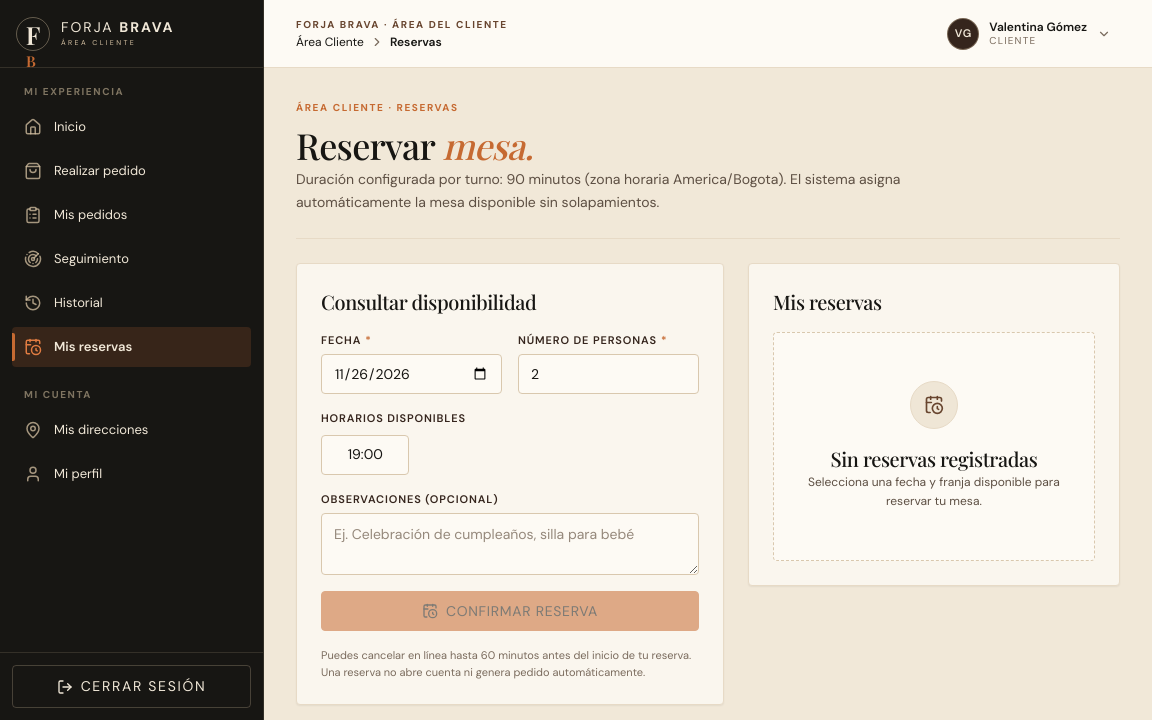
Test: Integración — Etapas 6 y 7 (Direcciones, Checkout, Reservas, Mesas) › permite consultar disponibilidad y crear reserva en /cliente/reservas
Step 1. Click the button "19:00" → (365, 454), box x1=321 y1=434 x2=410 y2=474
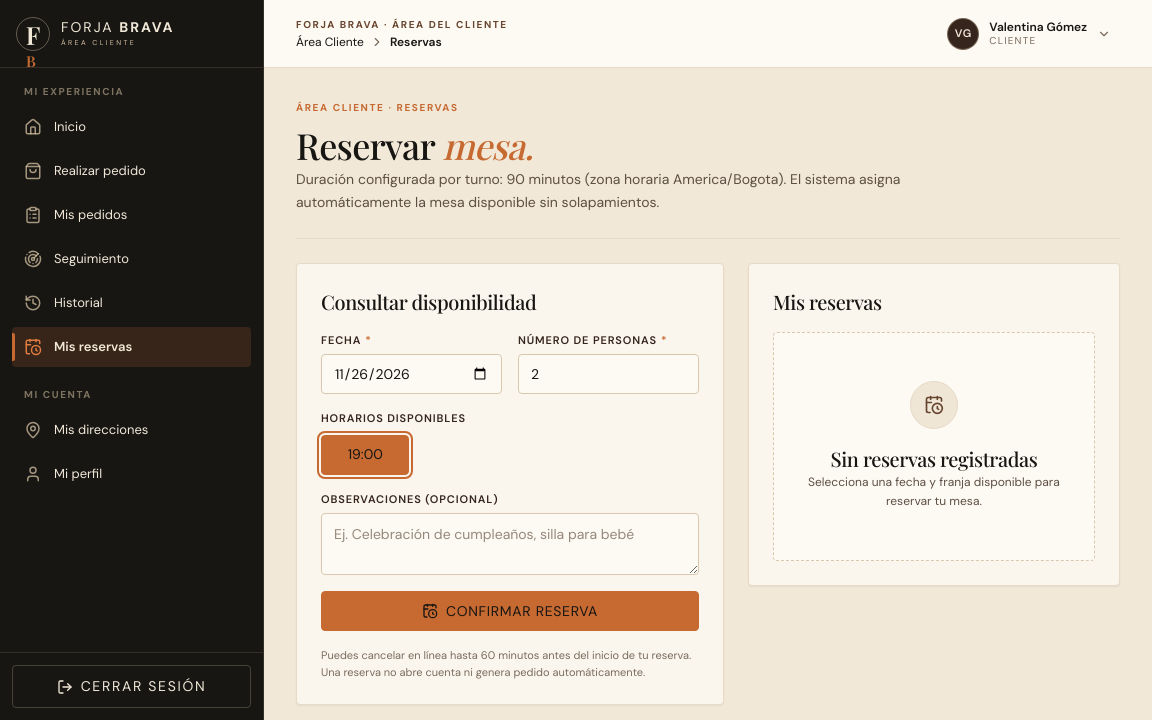
Step 2. Click the button "Confirmar reserva" → (510, 611), box x1=321 y1=591 x2=699 y2=631
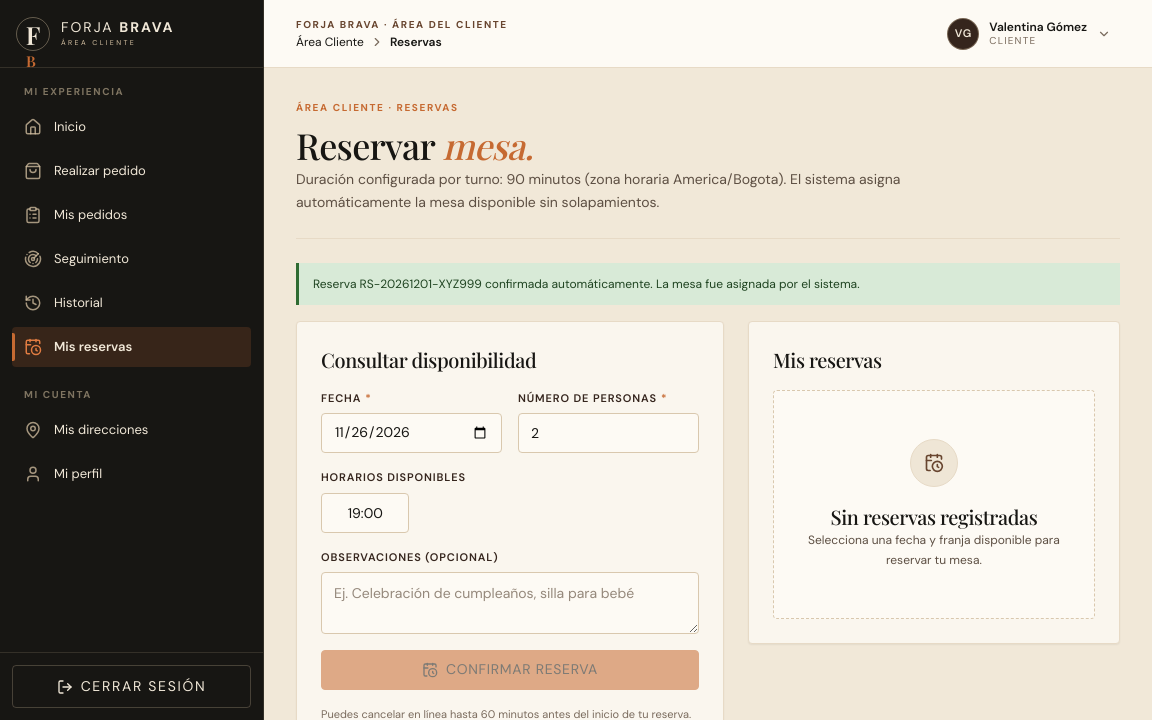
expect the message shows "RS-20261201-XYZ999": met, box x1=313 y1=276 x2=860 y2=292
